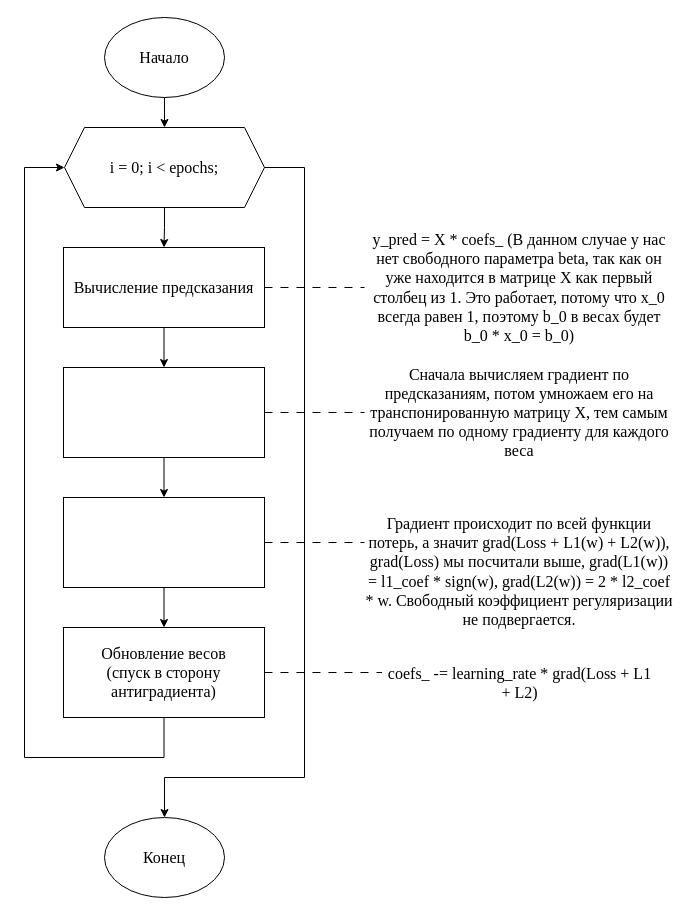
Some shapes in this 692 by 915 pixel diagram are drawn without their labels. The shapes that lost their labels are listed below. From the top down, each one's centre as x and y in pixels, then its label:
At point 163,412: "Вычисление градиента по предсказаниям".
At point 163,542: "Добавление L1- и L2- регуляризации".
